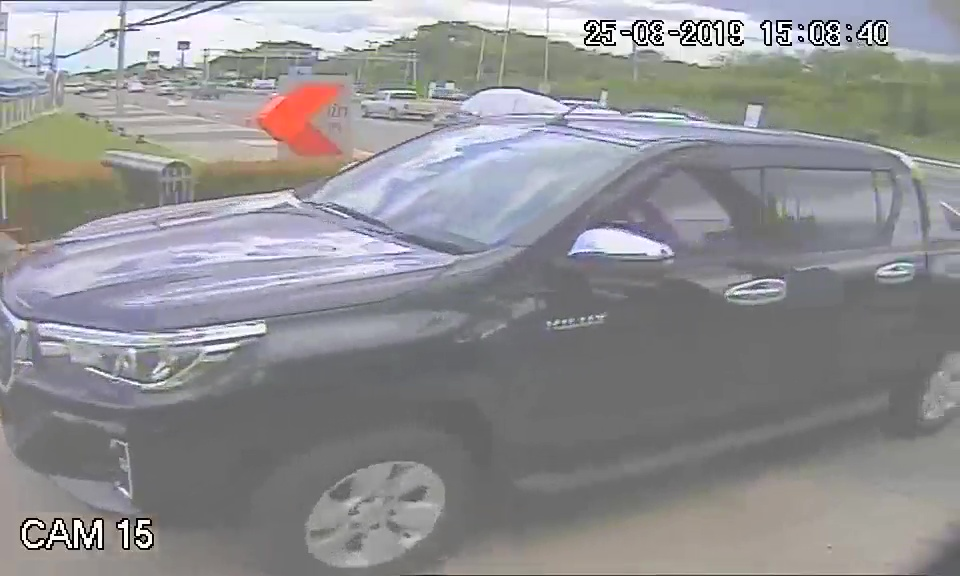pickup: (6, 102, 929, 519)
